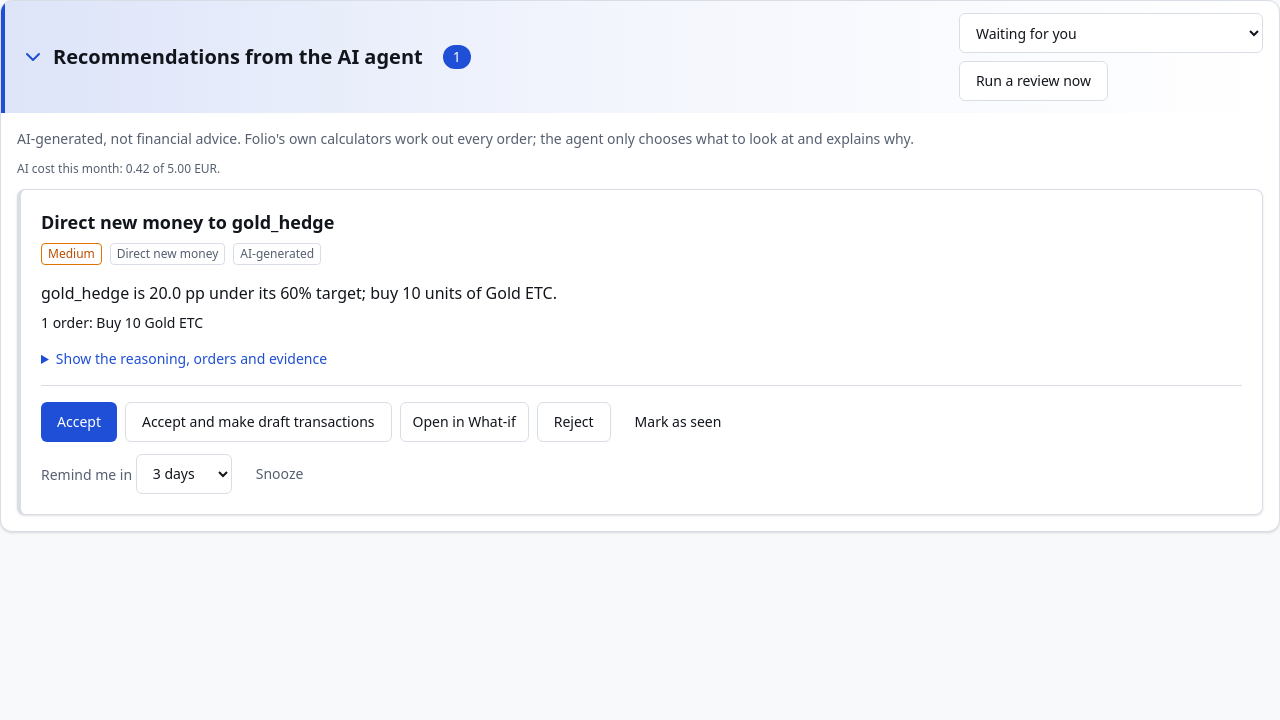
recommendations on Insights (FR-AG-05) › shows a refused decision from the server
Click the button "Accept".
click(79, 422)  # box [41,402,117,442]
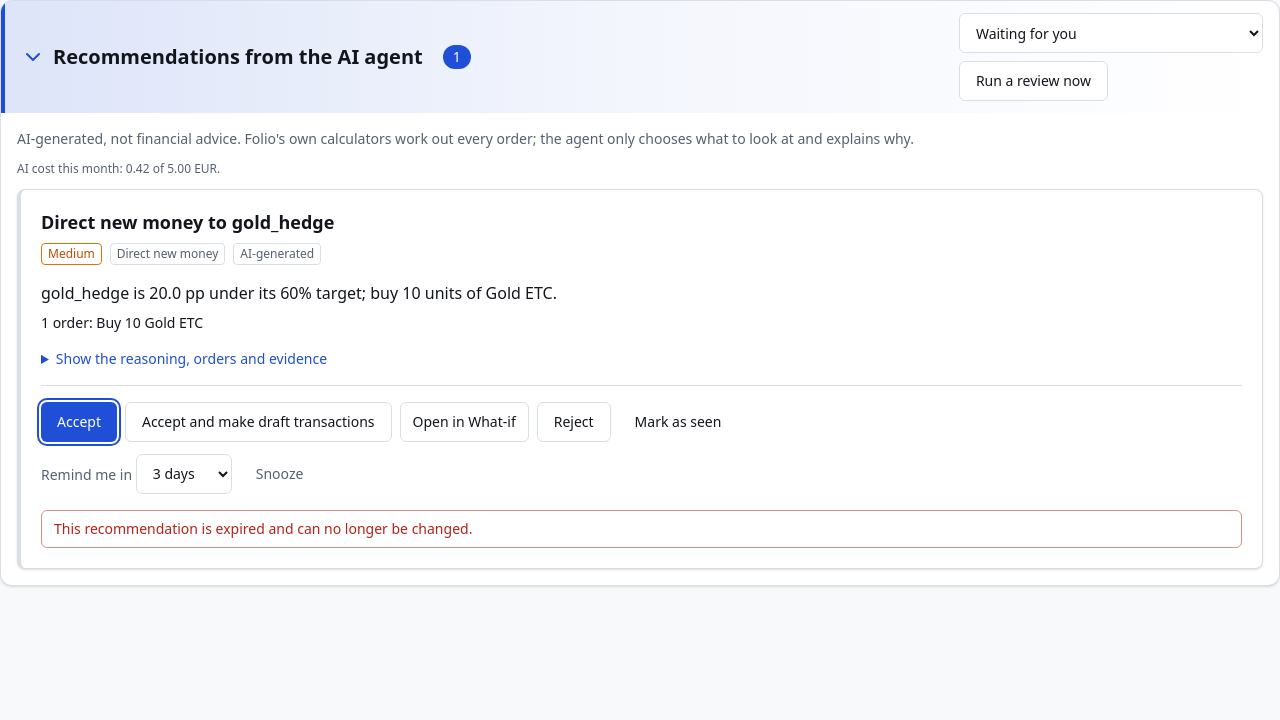
Check: the text "This recommendation is expired and can no longer be changed." is shown, box [41,510,1242,548]
